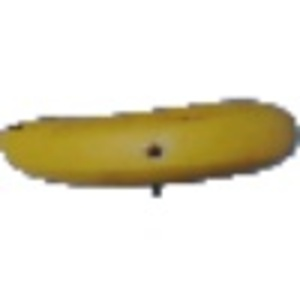banana: (2, 93, 298, 191)
